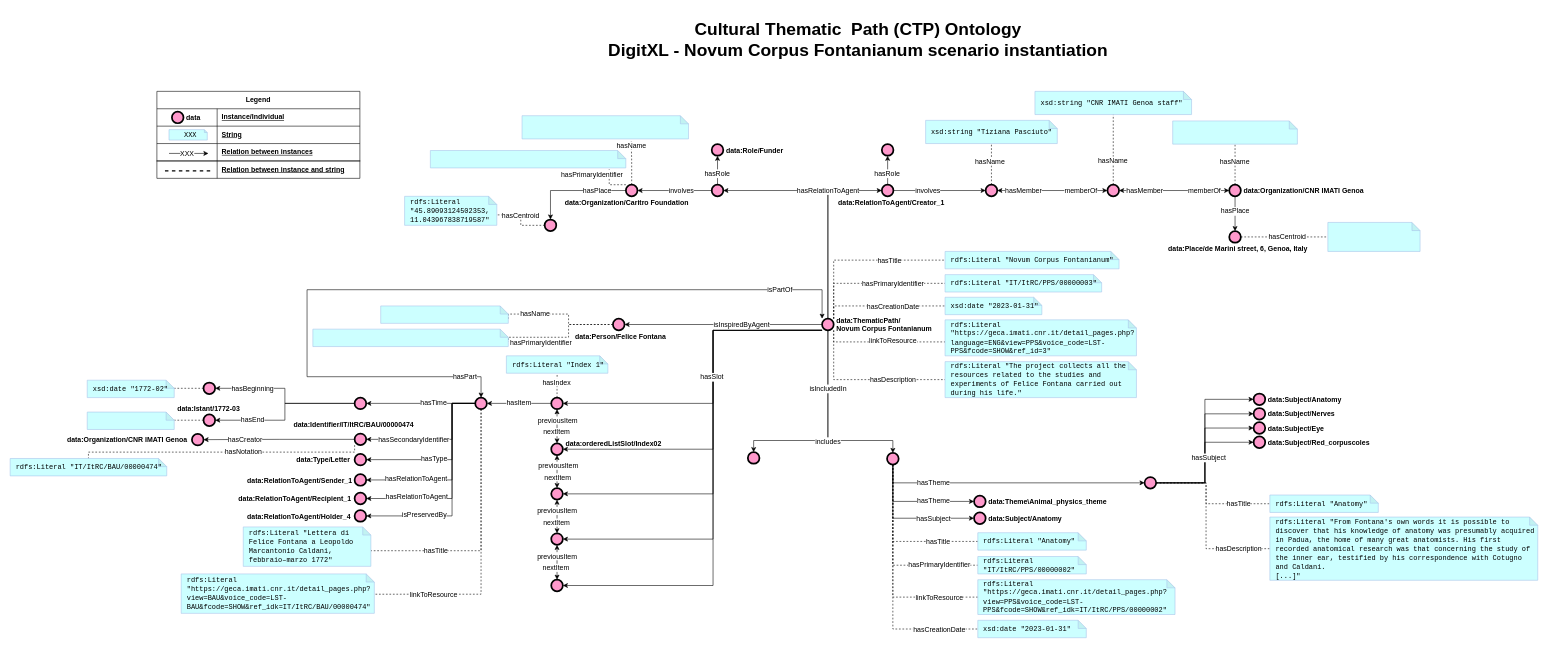
This 1548x657 diagram has some shape labels left out. The centre of each missing label's shape, as x and y in pixels:
data:CulturalResource/Lettera di Fontana: (480,403)
data:Group/CNR IMATI Genoa staff: (1113,190)
data:Interval/1772-02/1772-03: (360,403)
data:Istant/1772-02: (209,388)
data:orderedListSlot/Index01: (556,403)
data:orderedListSlot/Index03: (556,493)
data:orderedListSlot/Index04: (556,538)
data:orderedListSlot/Index05: (556,585)
data:Person_Tiziana Pasciuto: (991,190)
data:Place/del Ben Palace, Rovereto, Italy: (550,225)
data:RelationToAgent/Funder_1: (717,190)
data:Role/Creator: (887,149)
data:ThematicPath/Anatomy_tp: (892,458)
data:ThematicPath/Poisons_tp: (753,457)
data:Theme\Anatomy_theme: (1150,482)
rdfs:Literal " 44.40872901586253, 8.901019601274273": (1373,236)
rdfs:Literal " http://viaf.org/viaf/122717139": (528,159)
rdfs:Literal " http://viaf.org/viaf/46818873": (410,338)
xsd:date "1772-03": (130,420)
xsd:string " Felice Fontana": (444,314)
xsd:string "Caritro Foundation,Cassa di risparmio di Trento e Rovereto": (605,127)
xsd:string "CNR IMATI Genoa": (1234,132)
